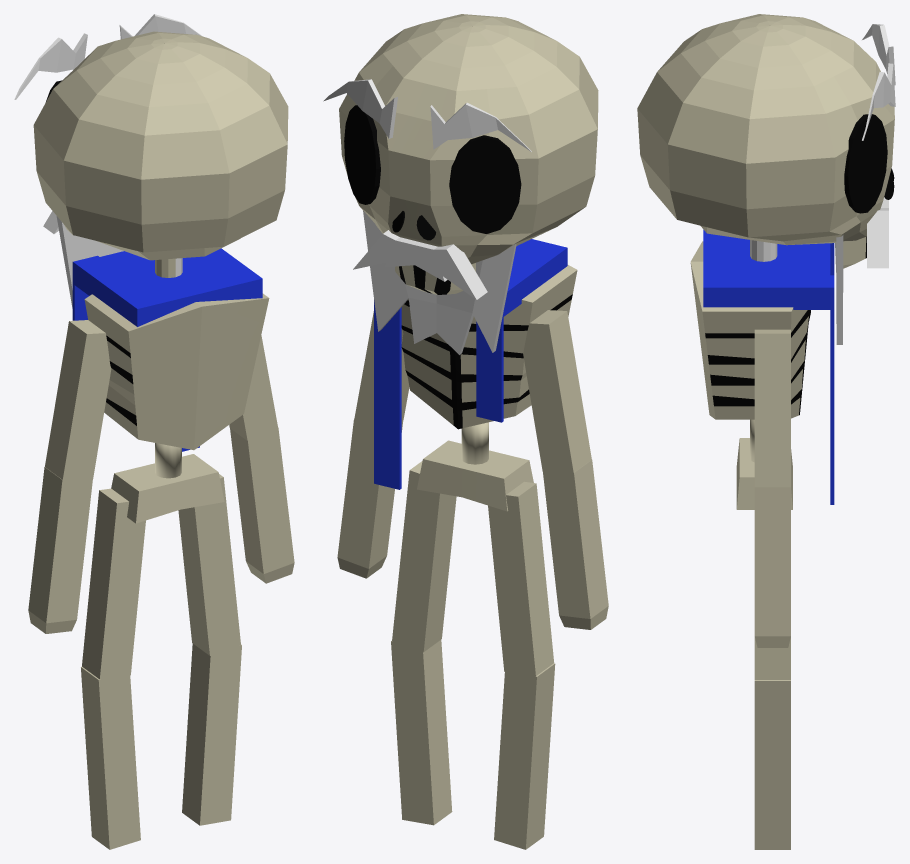
Rendered from Смотритель харам.fbx.
3 views of the same model, side by side, from view 1: azimuth 30°, elevation 25°; view 2: azimuth 150°, elevation 25°; view 3: azimuth 270°, elevation 25° (orthographic).
Parts seen in each view (by area): view 1: Plane.006, Cube.024, Cube.023, Cube.022, Cube.020, Cube.017, Cube.060, Cube.021, Cube.057, Cube.058; view 2: Plane.006, Cube.023, Cube.022, Cube.020, Cube.024, Cube.060, Cube.017, Cube.058, Cube.021, Cube.057, Cube.059; view 3: Plane.006, Cube.060, Cube.024, Cube.023, Cube.020, Cube.017, Cube.057, Cube.021, Cube.059, Cube.022, Cube.058, Cylinder.008.
Boxes of the visible parts, box(x1,y1,x2,y2) form: Plane.006: box(33, 31, 288, 260); Cube.024: box(84, 258, 269, 450); Cube.023: box(81, 643, 241, 849); Cube.022: box(82, 474, 240, 679); Cube.020: box(28, 427, 294, 633); Cube.017: box(45, 320, 277, 480); Cube.060: box(72, 248, 262, 451); Cube.021: box(111, 443, 224, 523); Cube.057: box(14, 14, 202, 99); Cube.058: box(56, 216, 123, 308); Plane.006: box(339, 14, 598, 294); Cube.023: box(391, 640, 555, 849); Cube.022: box(392, 461, 554, 676); Cube.020: box(337, 419, 608, 629); Cube.024: box(401, 265, 577, 429); Cube.060: box(374, 239, 567, 489); Cube.017: box(354, 310, 591, 473); Cube.058: box(363, 210, 516, 354); Cube.021: box(417, 422, 533, 511); Cube.057: box(323, 79, 531, 151); Cube.059: box(353, 230, 487, 299); Plane.006: box(637, 14, 894, 268); Cube.060: box(703, 229, 834, 504); Cube.024: box(690, 241, 810, 419); Cube.023: box(754, 680, 790, 849); Cube.020: box(754, 487, 790, 647); Cube.017: box(754, 329, 790, 487); Cube.057: box(862, 24, 895, 140); Cube.021: box(736, 419, 792, 509); Cube.059: box(867, 197, 888, 268); Cube.022: box(754, 637, 790, 679); Cube.058: box(835, 235, 843, 344); Cylinder.008: box(750, 240, 777, 261).
Bounding box in the file's own units: 62.94 × 190 × 56.05.
